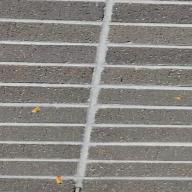Bee: (49, 170, 73, 188), (29, 104, 45, 116), (170, 96, 188, 103)
